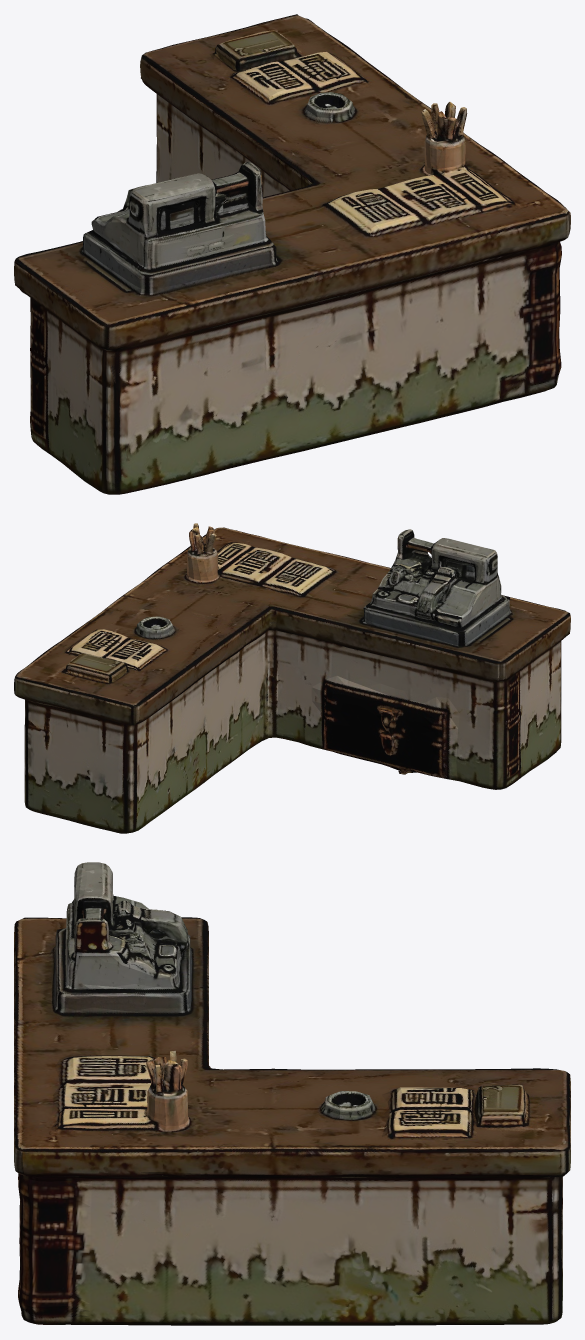
The model's file is tripo_convert_5af232ef-825b-47db-9b4e-54c231291bc1.obj.
3 views of the same model, one above another, from view 1: azimuth 30°, elevation 25°; view 2: azimuth 150°, elevation 25°; view 3: azimuth 270°, elevation 25° (orthographic). The views are drawn at different scales.
Parts seen in each view (by area): view 1: tripo_node_5af232ef-825b-47db-9b4e-54c231291bc1; view 2: tripo_node_5af232ef-825b-47db-9b4e-54c231291bc1; view 3: tripo_node_5af232ef-825b-47db-9b4e-54c231291bc1.
Part boxes in pixels (x1,y1,x2,y2): tripo_node_5af232ef-825b-47db-9b4e-54c231291bc1: (14,14,570,494); tripo_node_5af232ef-825b-47db-9b4e-54c231291bc1: (14,523,570,833); tripo_node_5af232ef-825b-47db-9b4e-54c231291bc1: (14,862,570,1325).
Size of the model in its own units: 0.994 by 0.5409 by 0.9998.
Materials: 1 (1 with a texture image).
